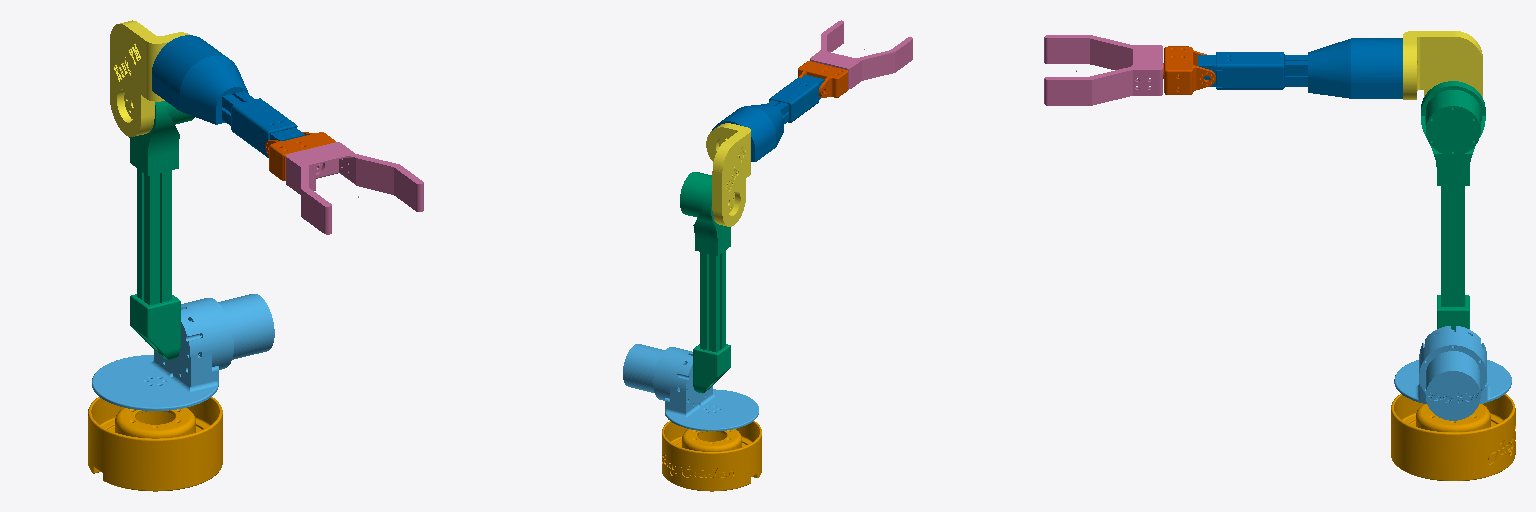
robot.urdf — urdfbot:
<?xml version="1.0"?>
<robot name="urdfbot">

    <link name="mani_link1">
        <visual>
            <geometry>
                <mesh filename="package://urdfbot_description/meshes/visual/mani_1.stl" scale="0.001 0.001 0.001"/>
            </geometry>
        </visual>
        <collision>
            <geometry>
                <mesh filename="package://urdfbot_description/meshes/collision/mani_1.stl" scale="0.001 0.001 0.001"/>
            </geometry>
        </collision>
    </link>


    <link name="mani_link2">
        <visual>
            <geometry>
                <mesh filename="package://urdfbot_description/meshes/visual/mani_2.stl" scale="0.001 0.001 0.001"/>
            </geometry>
        </visual>
        <collision>
            <geometry>
                <mesh filename="package://urdfbot_description/meshes/collision/mani_2.stl" scale="0.001 0.001 0.001"/>
            </geometry>
        </collision>
    </link>

    <joint name="mani_joint1" type="revolute">
        <origin rpy="0 0 0" xyz="0 0 0.103" />
        <parent link="mani_link1" />
        <child link="mani_link2" />
        <axis xyz="0 0 1" />
        <limit effort="87" lower="-2.9671" upper="2.9671" velocity="2.3925" />
    </joint>

    <link name="mani_link3">
        <visual>
            <geometry>
                <mesh filename="package://urdfbot_description/meshes/visual/mani_3.stl" scale="0.001 0.001 0.001"/>
            </geometry>
        </visual>
        <collision>
            <geometry>
                <mesh filename="package://urdfbot_description/meshes/collision/mani_3.stl" scale="0.001 0.001 0.001"/>
            </geometry>
        </collision>
    </link>

    <joint name="mani_joint2" type="revolute">
        <origin rpy="0 -1.57075 0" xyz="0.02285 0 0.051" />
        <parent link="mani_link2" />
        <child link="mani_link3" />
        <axis xyz="0 0 1" />
        <limit effort="87" lower="-1.57075" upper="1.57075" velocity="2.3925" />
    </joint>

    <link name="mani_link4">
        <visual>
            <geometry>
                <mesh filename="package://urdfbot_description/meshes/visual/mani_4.stl" scale="0.001 0.001 0.001"/>
            </geometry>
        </visual>
        <collision>
            <geometry>
                <mesh filename="package://urdfbot_description/meshes/collision/mani_4.stl" scale="0.001 0.001 0.001"/>
            </geometry>
        </collision>
    </link>

    <joint name="mani_joint3" type="revolute">
        <origin rpy="0 0 0" xyz="0.3195 0 0.0455" />
        <parent link="mani_link3" />
        <child link="mani_link4" />
        <axis xyz="0 0 1" />
        <limit effort="87" lower="-1.57075" upper="1.57075" velocity="2.3925" />
    </joint>

    <link name="mani_link5">
        <visual>
            <geometry>
                <mesh filename="package://urdfbot_description/meshes/visual/mani_5.stl" scale="0.001 0.001 0.001"/>
            </geometry>
        </visual>
        <collision>
            <geometry>
                <mesh filename="package://urdfbot_description/meshes/collision/mani_5.stl" scale="0.001 0.001 0.001"/>
            </geometry>
        </collision>
    </link>

    <joint name="mani_joint4" type="revolute">
        <origin rpy="0 -1.57075 1.57075" xyz="0.066 -0.064 -0.022" />
        <parent link="mani_link4" />
        <child link="mani_link5" />
        <axis xyz="0 0 1" />
        <limit effort="87" lower="-2.9671" upper="2.9671" velocity="2.3925" />
    </joint>

    <link name="mani_link6">
        <visual>
            <geometry>
                <mesh filename="package://urdfbot_description/meshes/visual/mani_6.stl" scale="0.001 0.001 0.001"/>
            </geometry>
        </visual>
        <collision>
            <geometry>
                <mesh filename="package://urdfbot_description/meshes/collision/mani_6.stl" scale="0.001 0.001 0.001"/>
            </geometry>
        </collision>
    </link>

    <joint name="mani_joint5" type="revolute">
        <origin rpy="0 0 0" xyz="0 0 0.24875" />
        <parent link="mani_link5" />
        <child link="mani_link6" />
        <axis xyz="1 0 0" />
        <limit effort="87" lower="-1.57075" upper="1.57075" velocity="2.3925" />
    </joint>

    <link name="mani_link7">
        <visual>
            <geometry>
                <mesh filename="package://urdfbot_description/meshes/visual/mani_7.stl" scale="0.001 0.001 0.001"/>
            </geometry>
        </visual>
        <collision>
            <geometry>
                <mesh filename="package://urdfbot_description/meshes/collision/mani_7.stl" scale="0.001 0.001 0.001"/>
            </geometry>
        </collision>
    </link>

    <joint name="mani_joint6" type="revolute">
        <origin rpy="0 0 0" xyz="0 0 0.0565" />
        <parent link="mani_link6" />
        <child link="mani_link7" />
        <axis xyz="0 0 1" />
        <limit effort="87" lower="-2.9671" upper="2.9671" velocity="2.3925" />
    </joint>
    
    <link name="mani_link8">
    	<visual>
            <geometry>
                <sphere radius="0.001" />
            </geometry>
        </visual>
    </link>
    
    <joint name="mani_joint7" type="revolute">
        <origin rpy="0 0 0" xyz="0 0 0.110" />
        <parent link="mani_link7" />
        <child link="mani_link8" />
        <axis xyz="1 0 0" />
        <limit effort="87" lower="-3.1415" upper="3.1415" velocity="2.3925" />
    </joint>


</robot>

--- What the picture shows (computed from the rendered views, not written in the file) ---
Views: 3 orthographic renders of the robot side by side, from view 1: azimuth 30°, elevation 25°; view 2: azimuth 150°, elevation 25°; view 3: azimuth 270°, elevation 25°.
Robot: urdfbot — 8 links, 7 joints (7 revolute); root link mani_link1; default pose: every joint at zero.
Visible links, largest first — view 1: mani_link2, mani_link1, mani_link3, mani_link5, mani_link7, mani_link4, mani_link6; view 2: mani_link3, mani_link2, mani_link1, mani_link4, mani_link5, mani_link7, mani_link6; view 3: mani_link5, mani_link3, mani_link1, mani_link2, mani_link7, mani_link4, mani_link6.
Link boxes in pixels (box(x1,y1,x2,y2)): mani_link2: box(92, 294, 274, 410); mani_link1: box(88, 397, 222, 491); mani_link3: box(129, 101, 194, 359); mani_link5: box(152, 35, 304, 157); mani_link7: box(286, 142, 423, 234); mani_link4: box(110, 20, 189, 136); mani_link6: box(265, 132, 335, 180); mani_link3: box(680, 172, 730, 393); mani_link2: box(623, 344, 758, 430); mani_link1: box(662, 421, 761, 491); mani_link4: box(706, 123, 750, 226); mani_link5: box(712, 75, 824, 161); mani_link7: box(810, 20, 912, 89); mani_link6: box(798, 61, 847, 97); mani_link5: box(1198, 38, 1402, 98); mani_link3: box(1421, 81, 1485, 329); mani_link1: box(1391, 394, 1515, 480); mani_link2: box(1394, 326, 1511, 420); mani_link7: box(1044, 35, 1162, 105); mani_link4: box(1403, 31, 1482, 99); mani_link6: box(1163, 46, 1215, 94).
Bounding box of the posed robot: 0.2211 × 0.599 × 0.581 m (x, y, z).
Meshes: 7 distinct files referenced, 7 mesh visuals loaded (7 binary STL).
